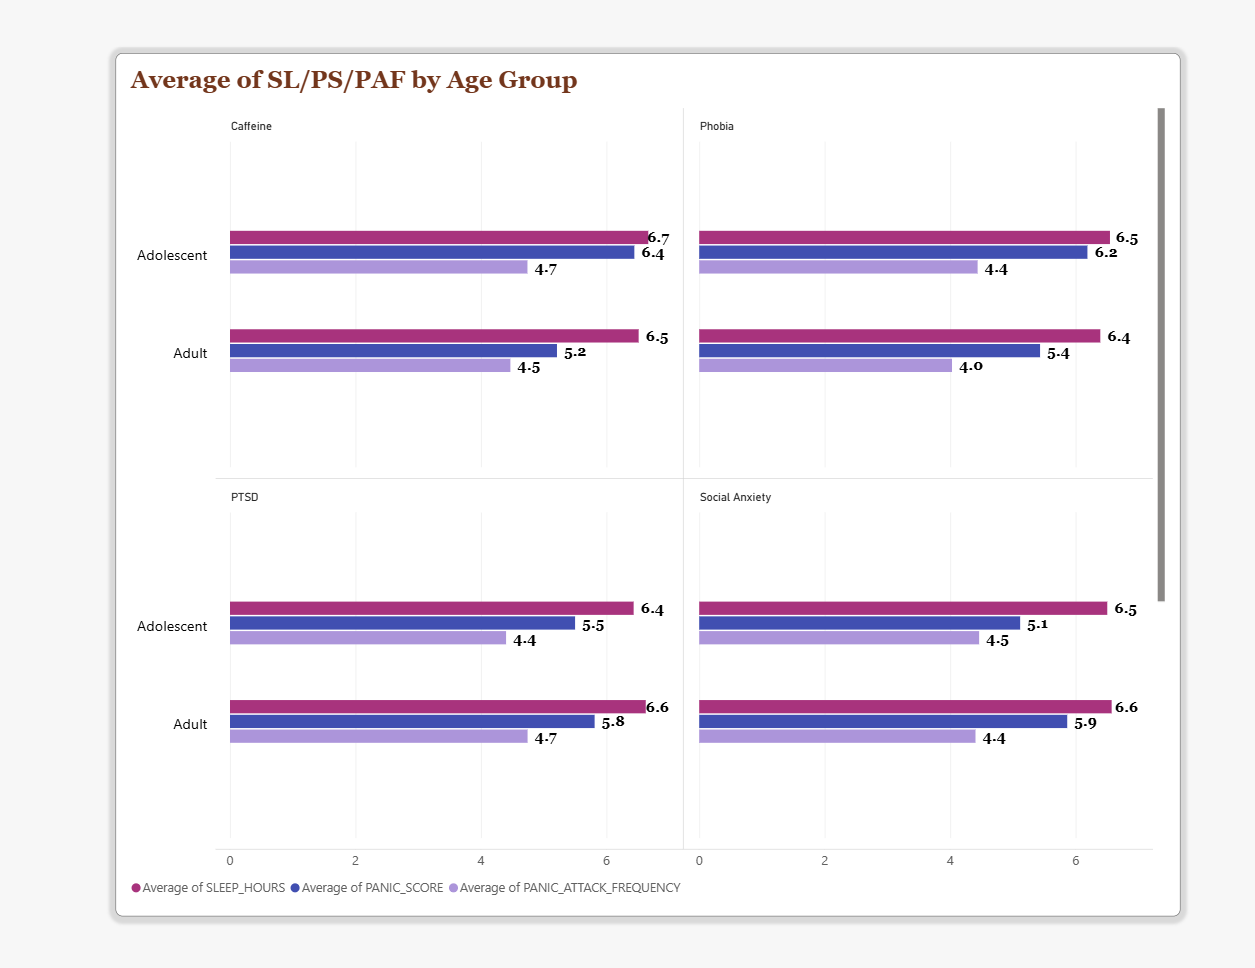

The page's visual inventory and layout, read from the dashboard file:
{"tool":"powerbi","page":{"name":"Age Group Analysis","canvas":[1920,1080],"ordinal":3},"visuals":[{"type":"clusteredBarChart","title":"Average of SL/PS/PAF by Age Group","fields":{"Category":["PANIC_ATTACK_DATA.Age Group IF"],"Rows":["PANIC_ATTACK_DATA.TRIGGER_REASON"],"Y":["Avg(PANIC_ATTACK_DATA.SLEEP_HOURS)","Avg(PANIC_ATTACK_DATA.PANIC_SCORE)","Avg(PANIC_ATTACK_DATA.PANIC_ATTACK_FREQUENCY)"]},"box":[307.8,59.6,1183.4,959.1],"z":0}]}

Visuals, with their boxes on the page's 1920x1080 design canvas (x1, y1, x2, y2). These are canvas units, not pixel positions in the 1255x968 screenshot, which may show the page scaled, cropped or inside an application window:
"Average of SL/PS/PAF by Age Group" clusteredBarChart: 308 60 1491 1019
